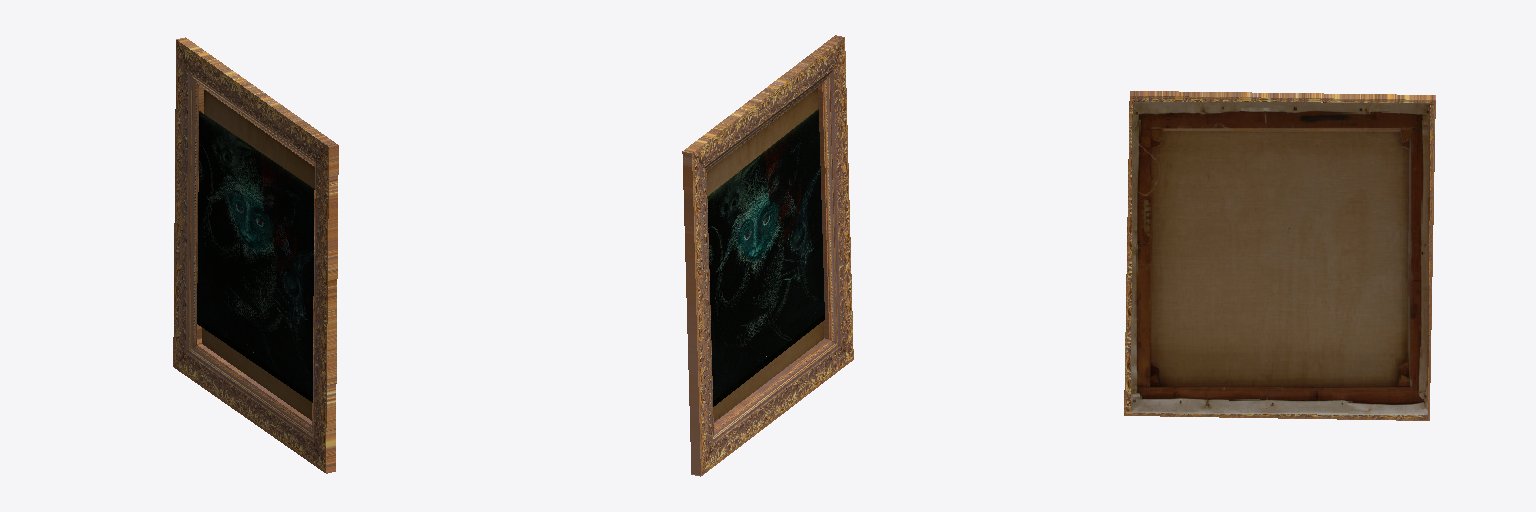
The picture shows the model from 3 angles: view 1: azimuth 30°, elevation 25°; view 2: azimuth 150°, elevation 25°; view 3: azimuth 270°, elevation 25°; orthographic projection.
Visible parts, largest first — view 1: Frame, Canvas, Back; view 2: Frame, Canvas, Back; view 3: Back, Frame.
Boxes of the visible parts, box(x1,y1,x2,y2) form: Frame: box(173, 37, 338, 473); Canvas: box(197, 111, 314, 402); Back: box(202, 90, 314, 420); Frame: box(682, 35, 853, 476); Canvas: box(707, 109, 824, 406); Back: box(707, 88, 823, 422); Back: box(1131, 102, 1429, 414); Frame: box(1124, 91, 1435, 420).
Bounding box in the file's own units: 2.73 × 54.5 × 46.88.
3 materials, 3 textured.